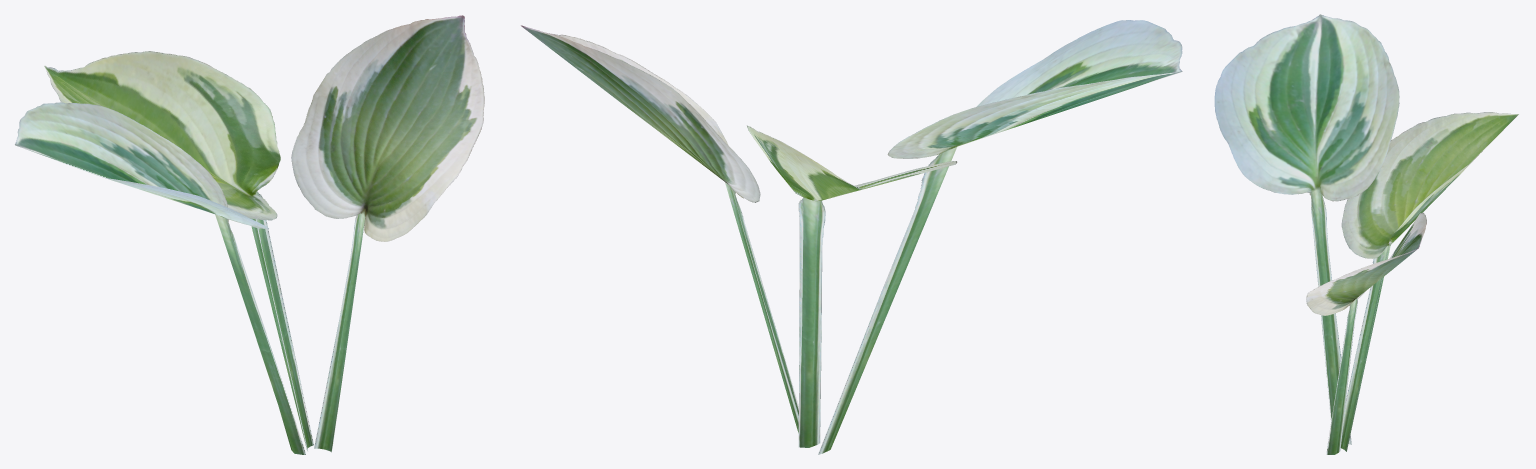
File: plant_small_wg_00_fillerC_wild.fbx
3 renders of one model, left to right at view 1: azimuth 30°, elevation 25°; view 2: azimuth 150°, elevation 25°; view 3: azimuth 270°, elevation 25°, orthographic. The views are drawn at different scales.
Parts seen in each view (by area): view 1: plant_small_wg_00_fillerC_wild; view 2: plant_small_wg_00_fillerC_wild; view 3: plant_small_wg_00_fillerC_wild.
Part boxes in pixels (left/top/right/bottom): plant_small_wg_00_fillerC_wild: left=15, top=15, right=484, bottom=454; plant_small_wg_00_fillerC_wild: left=521, top=20, right=1182, bottom=454; plant_small_wg_00_fillerC_wild: left=1214, top=14, right=1518, bottom=454.
Size of the model in its own units: 41.94 by 30.93 by 27.14.
